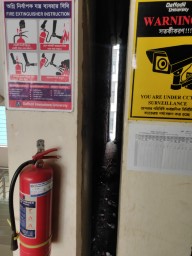fire_extinguisher: (110, 175, 192, 243)
